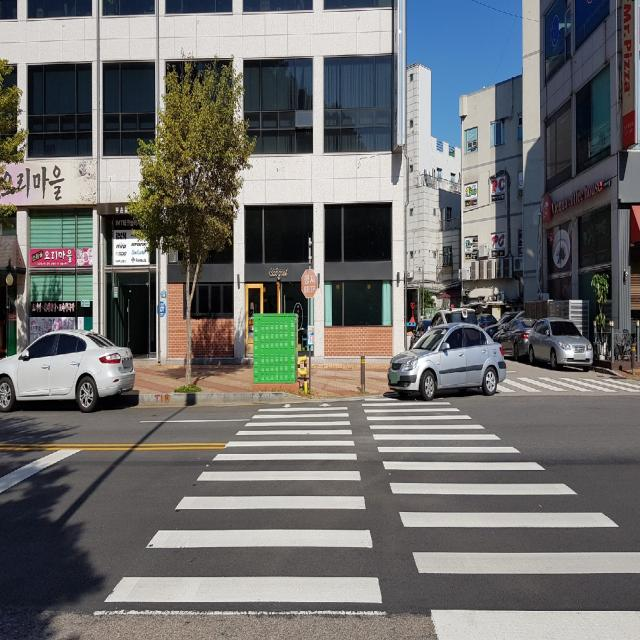횡단보도: (92, 396, 640, 640), (501, 379, 640, 392)
